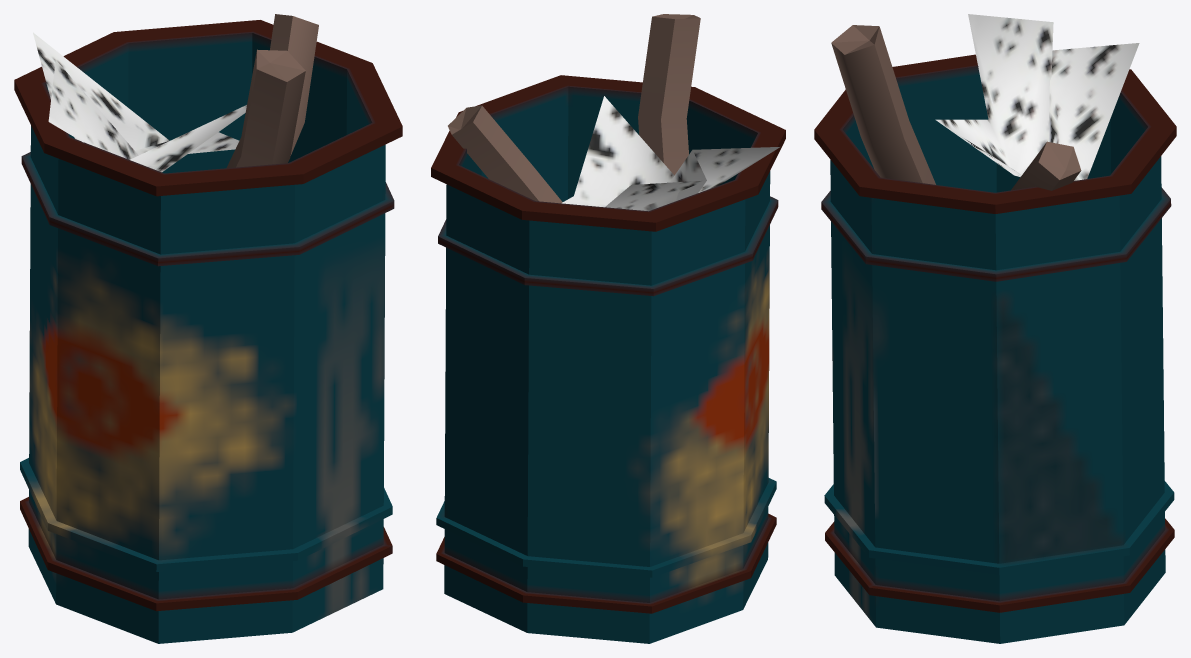
File: Barrel.glb
3 renders of one model, left to right at view 1: azimuth 30°, elevation 25°; view 2: azimuth 150°, elevation 25°; view 3: azimuth 270°, elevation 25°, orthographic. The views are drawn at different scales.
Parts seen in each view (by area): view 1: barrel_01_grp.001; view 2: barrel_01_grp.001; view 3: barrel_01_grp.001.
Part boxes in pixels (box(x1,y1,x2,y2)): barrel_01_grp.001: box(14, 14, 402, 643); barrel_01_grp.001: box(431, 14, 785, 643); barrel_01_grp.001: box(814, 14, 1176, 643).
Size of what is drawn, in the model's own units: 1.1 by 1.76 by 1.07.
Materials: 1 (1 with a texture image).
